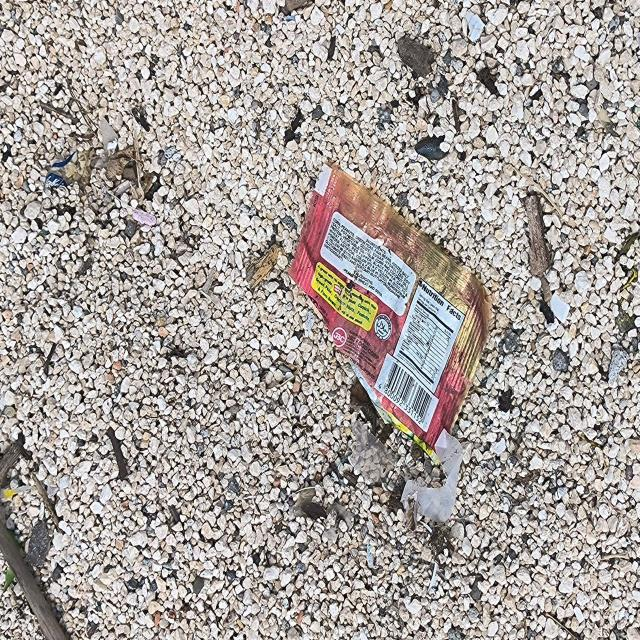plastic_waste: (286, 160, 496, 469)
